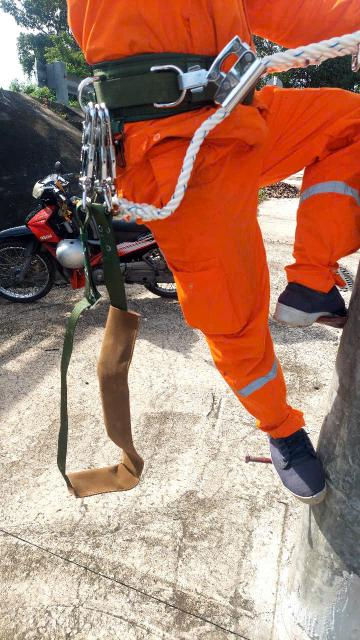harness: (68, 49, 282, 123)
shoes: (246, 414, 322, 521), (271, 279, 359, 338)
